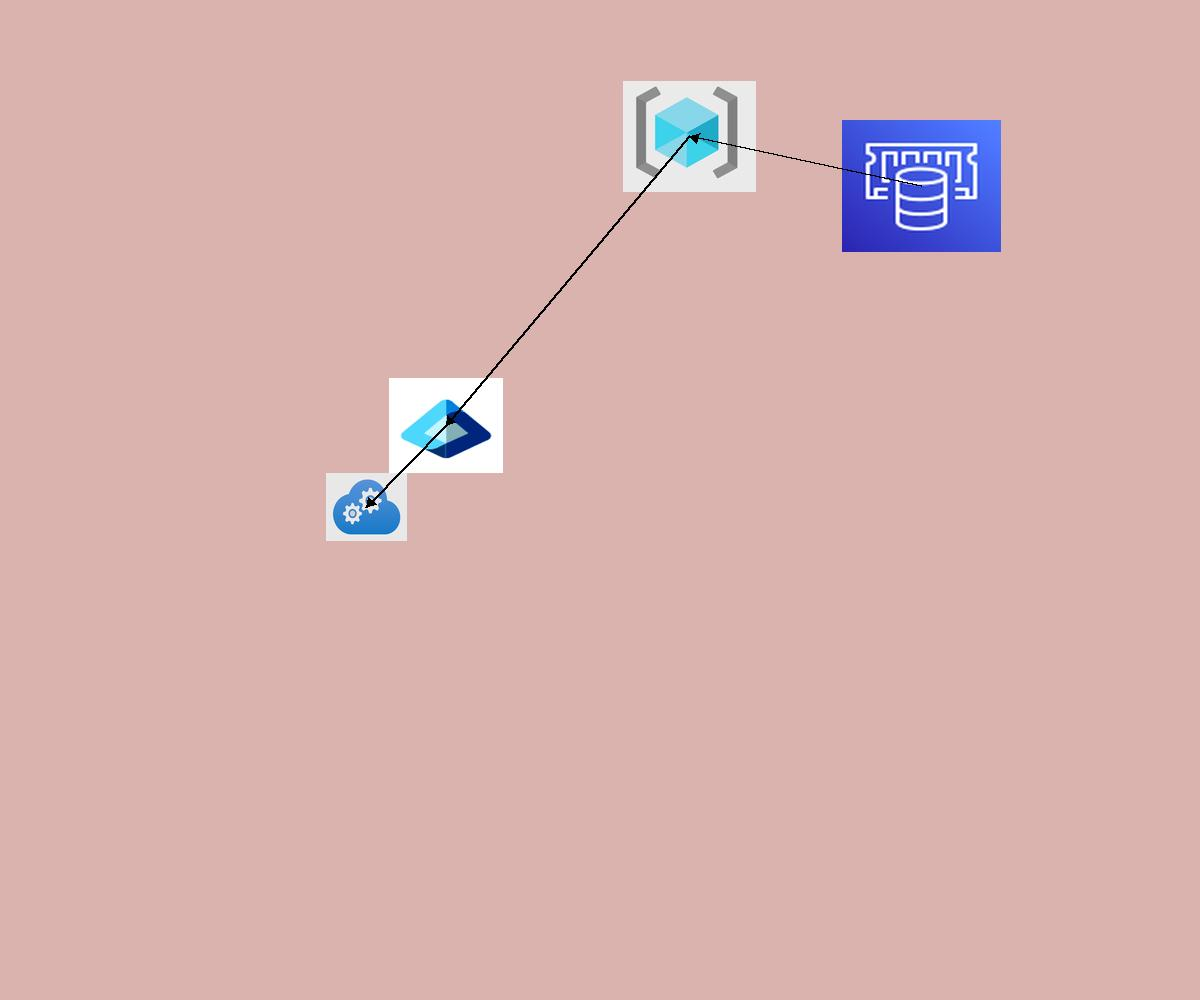AWS-ElastiCache: (842, 120, 1001, 252)
Azure_cloud_services: (326, 473, 407, 541)
Azure_microsoft_entra: (389, 378, 503, 473)
Azure_resource_group: (623, 81, 756, 192)
